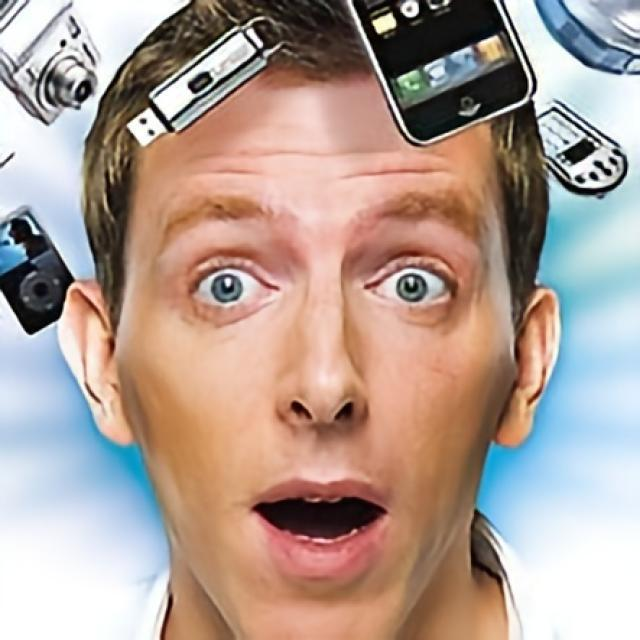surprise: (115, 64, 518, 640)
